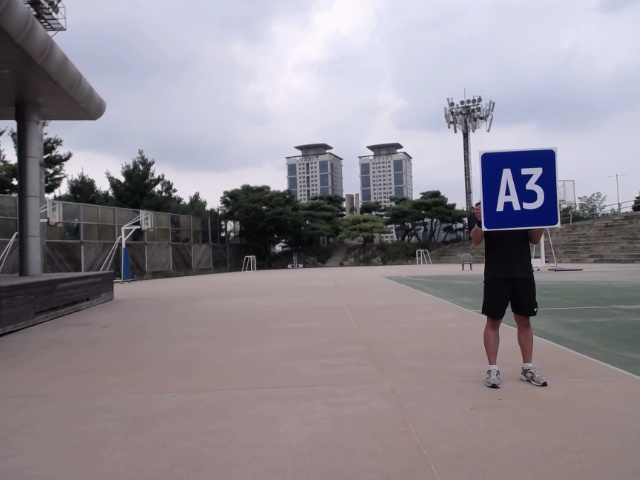delivery_a3: (480, 148, 559, 231)
